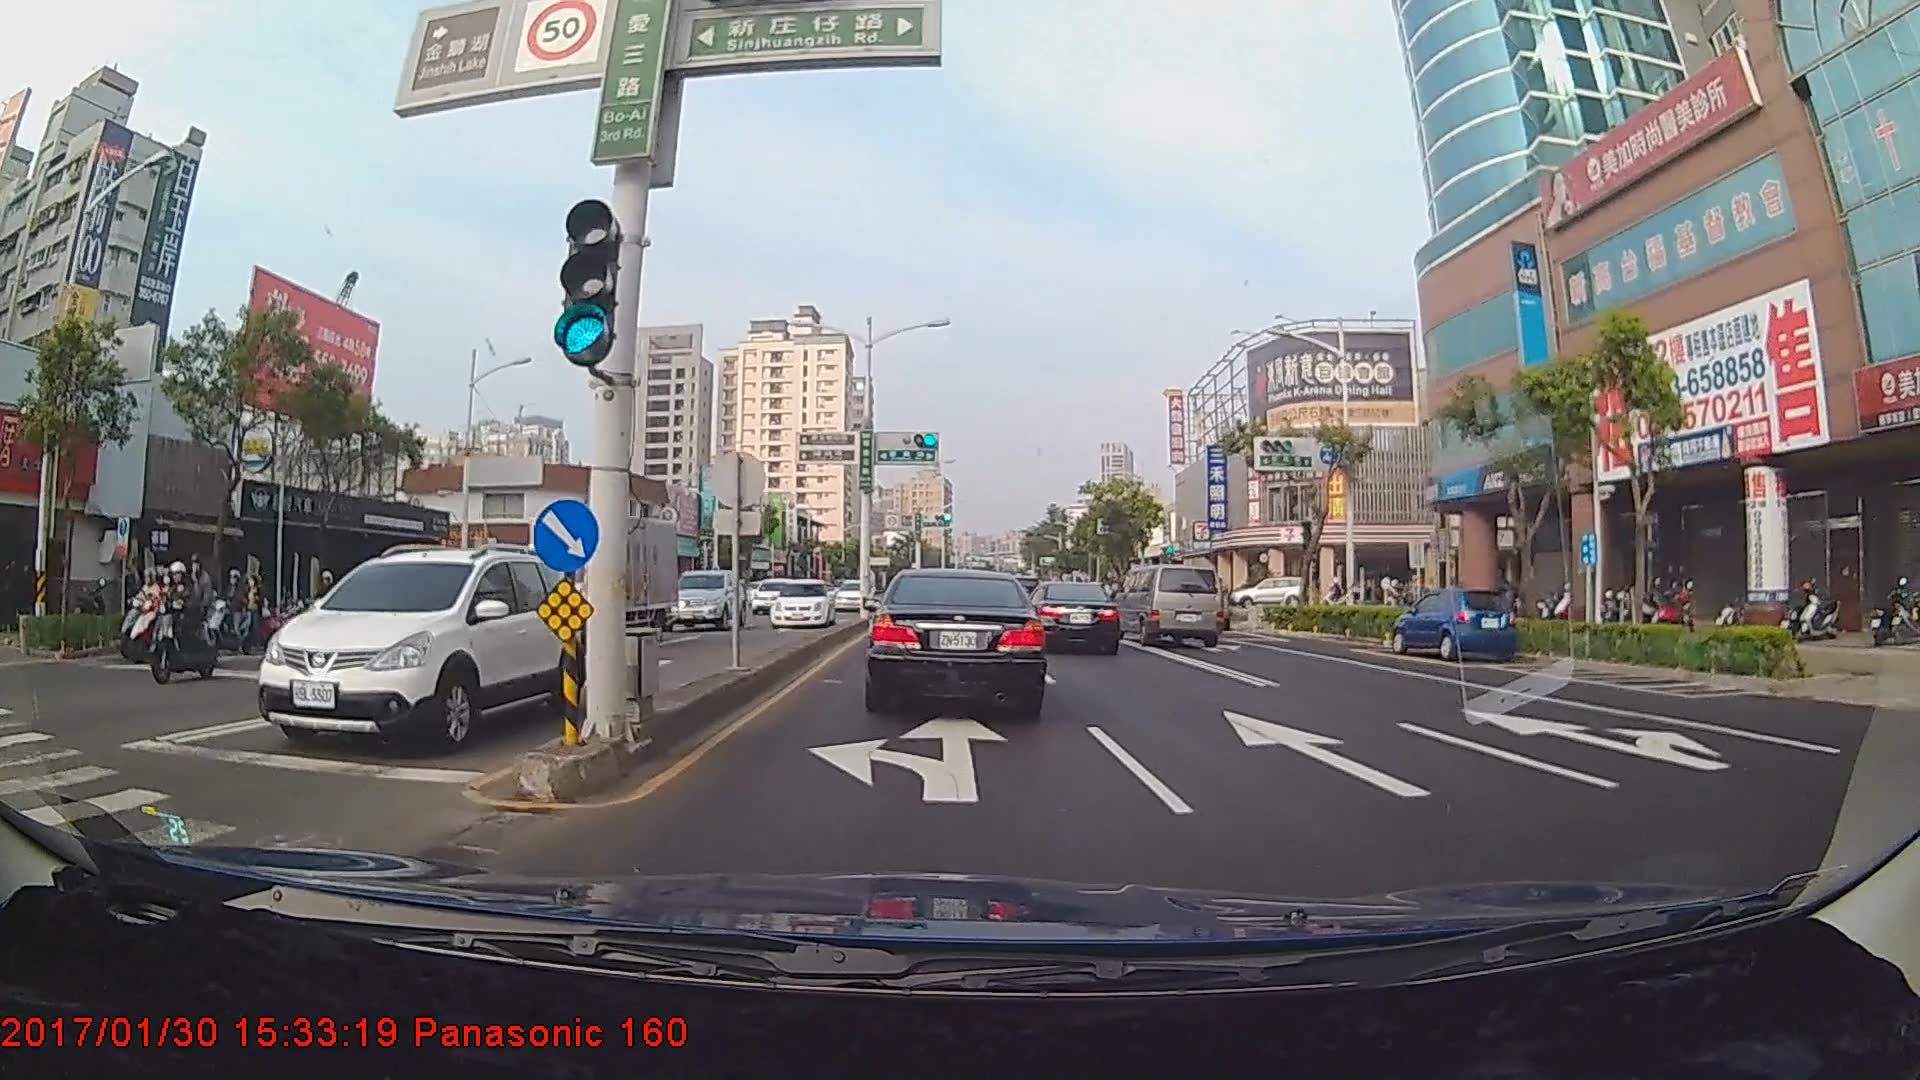rider: (146, 559, 220, 691), (152, 557, 236, 669)
vehicle: (270, 547, 569, 749), (869, 562, 1045, 710), (515, 511, 676, 657), (1390, 584, 1518, 662), (1115, 563, 1224, 648), (1027, 580, 1123, 655), (660, 566, 744, 633), (767, 574, 832, 629), (749, 578, 795, 613), (1238, 576, 1290, 607), (832, 576, 867, 614)
